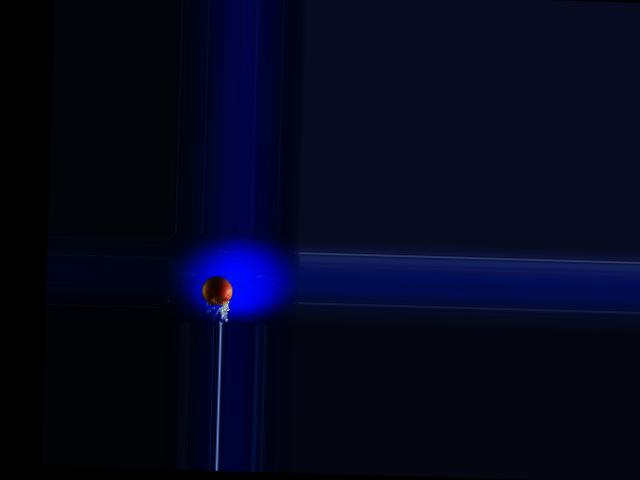tomato: (200, 276, 232, 305)
